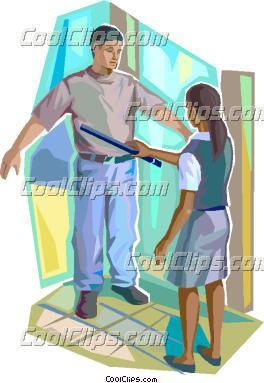person: (4, 18, 167, 318), (119, 70, 239, 368)
